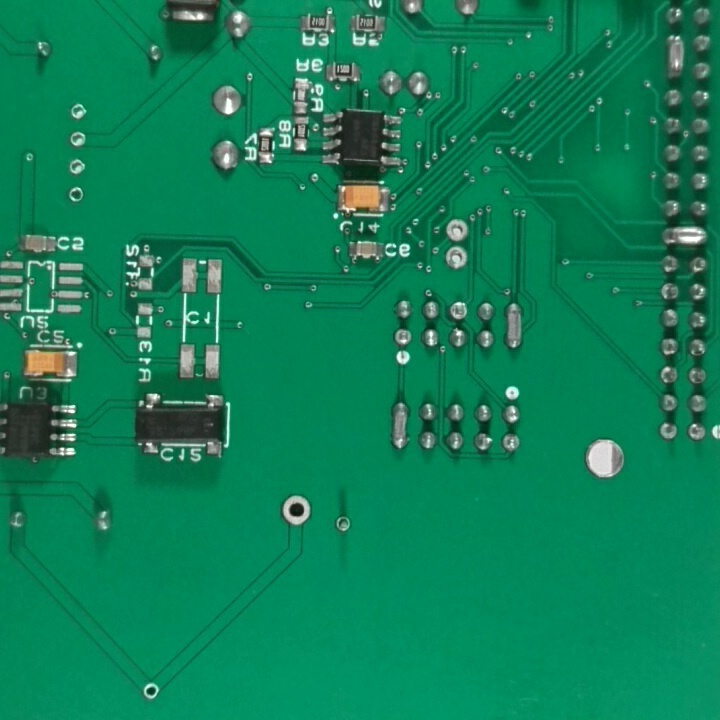F: (277, 489, 314, 529), (441, 243, 471, 272), (442, 218, 471, 243), (66, 127, 92, 154), (659, 275, 682, 305), (501, 428, 522, 460), (330, 512, 356, 537), (390, 327, 414, 352), (447, 300, 472, 323), (67, 98, 90, 123), (687, 363, 709, 388), (687, 419, 708, 444), (140, 680, 163, 702), (66, 184, 87, 206), (65, 158, 86, 177)
P: (654, 221, 715, 250), (387, 395, 413, 457), (503, 295, 527, 355), (663, 26, 687, 84)
